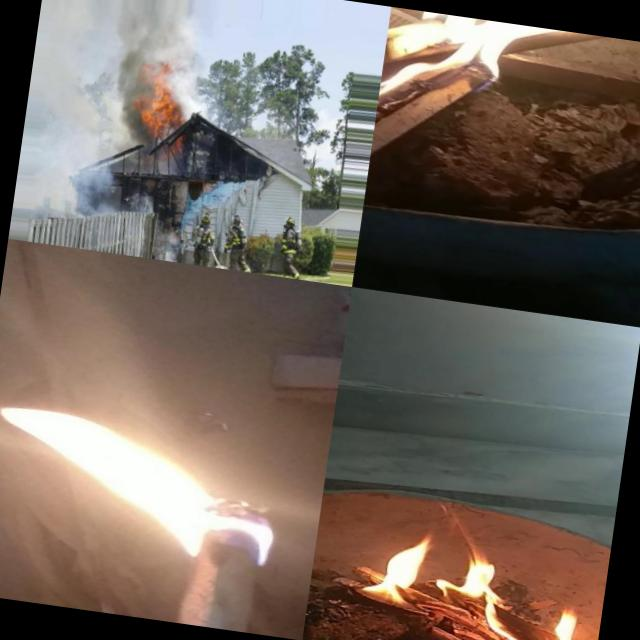fire: (0, 371, 287, 571), (374, 7, 640, 164), (339, 523, 609, 640), (134, 78, 197, 150)
smoke: (56, 18, 166, 148), (46, 135, 122, 218), (158, 32, 202, 86)
